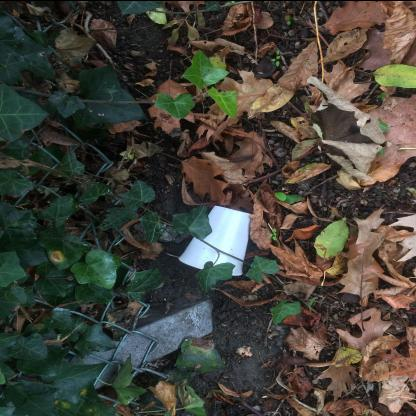Waste: (203, 204, 252, 275), (178, 236, 218, 268)
